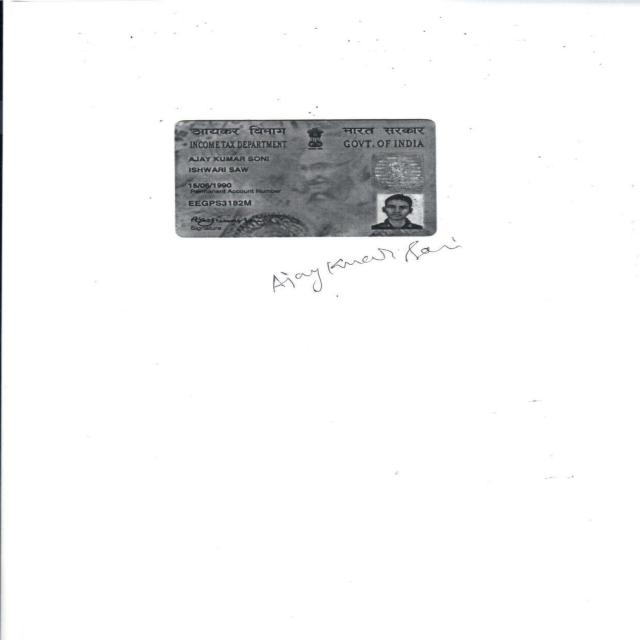pan_card: (173, 117, 434, 237)
